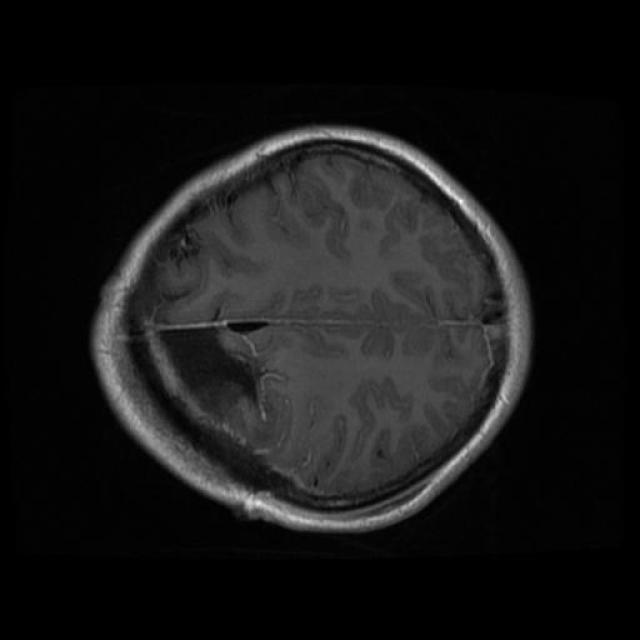Glioma: (144, 318, 271, 432)
